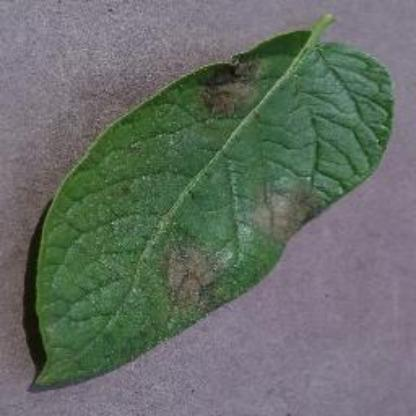Late-Blight: (6, 7, 400, 406)
